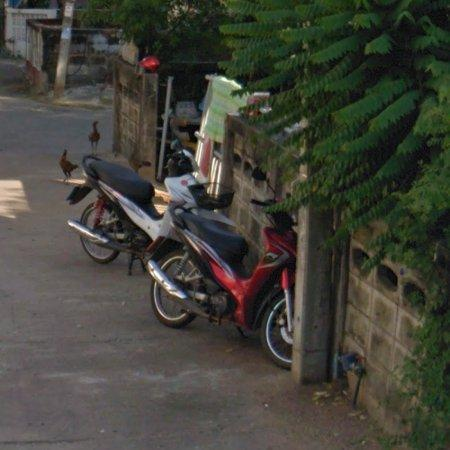motorcycles: (147, 209, 297, 369), (67, 156, 164, 274)
